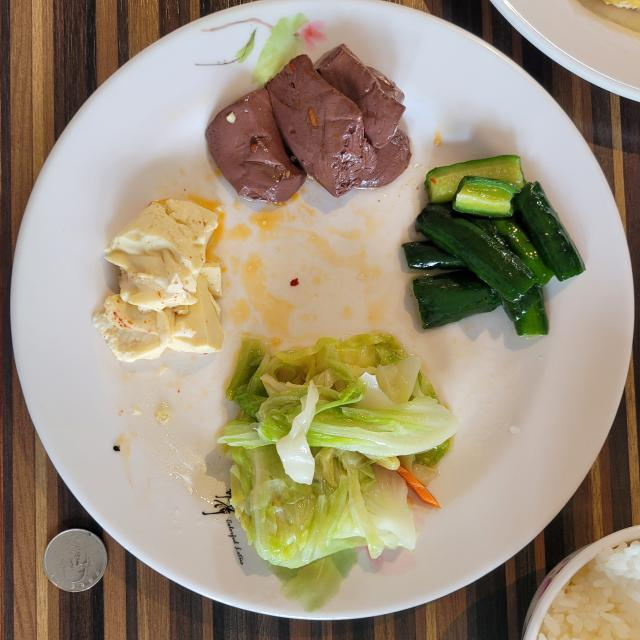cabbage: (218, 332, 460, 569)
coin: (44, 529, 108, 592)
cucumber: (404, 155, 585, 336)
pig blood curd: (206, 45, 410, 202)
